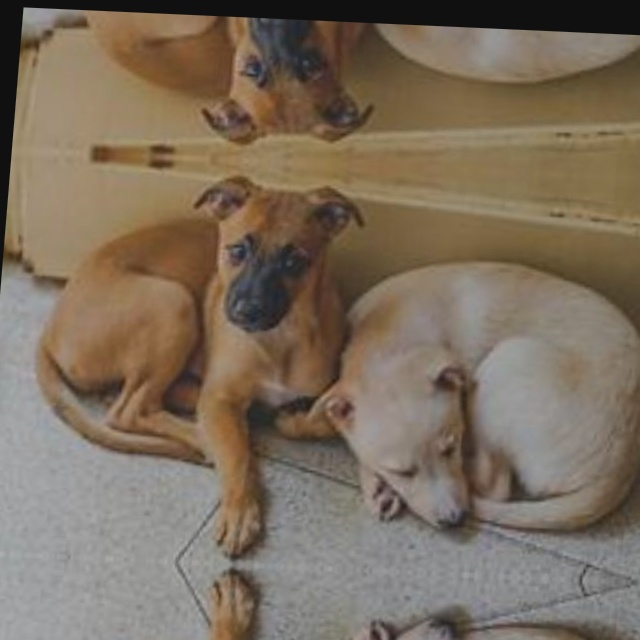dog: (330, 256, 640, 582), (66, 183, 370, 468), (94, 11, 384, 134), (318, 568, 638, 640), (370, 23, 640, 88)
